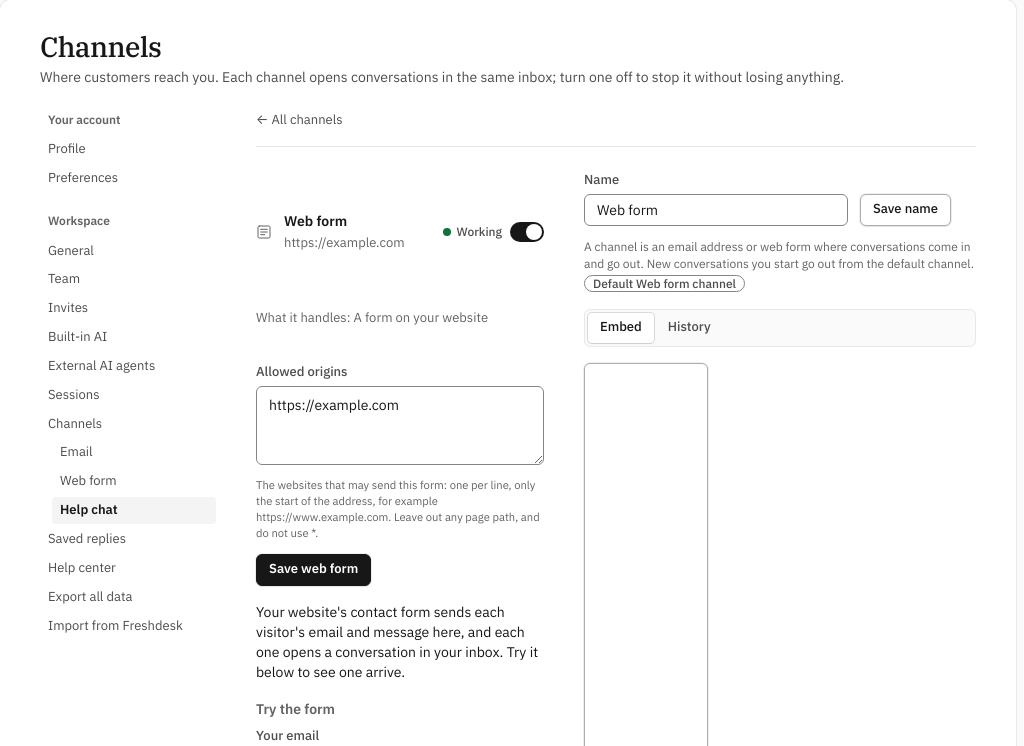
Scenario: a refused web form save shows the server message, not the generic failure
The image size is (1024, 746).
Step 1. Click the button "Save web form" → (314, 570), box [256,554,371,586]
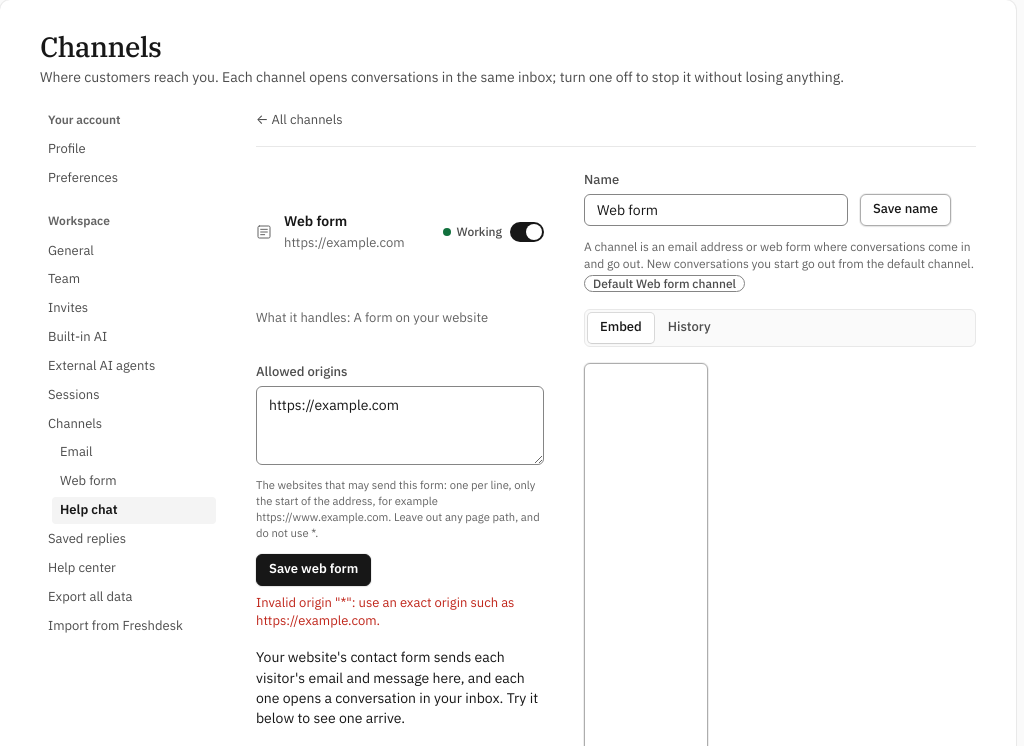
Expected: the text "Invalid origin \"*\": use an exact origin such as https://example.com." is shown, [256,594,544,631]
